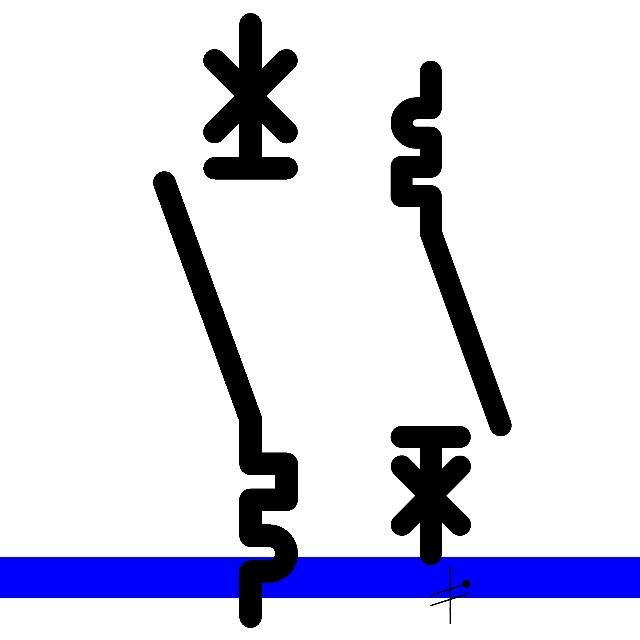interruptor_termomagnetico: (149, 9, 302, 632), (389, 59, 513, 566)
